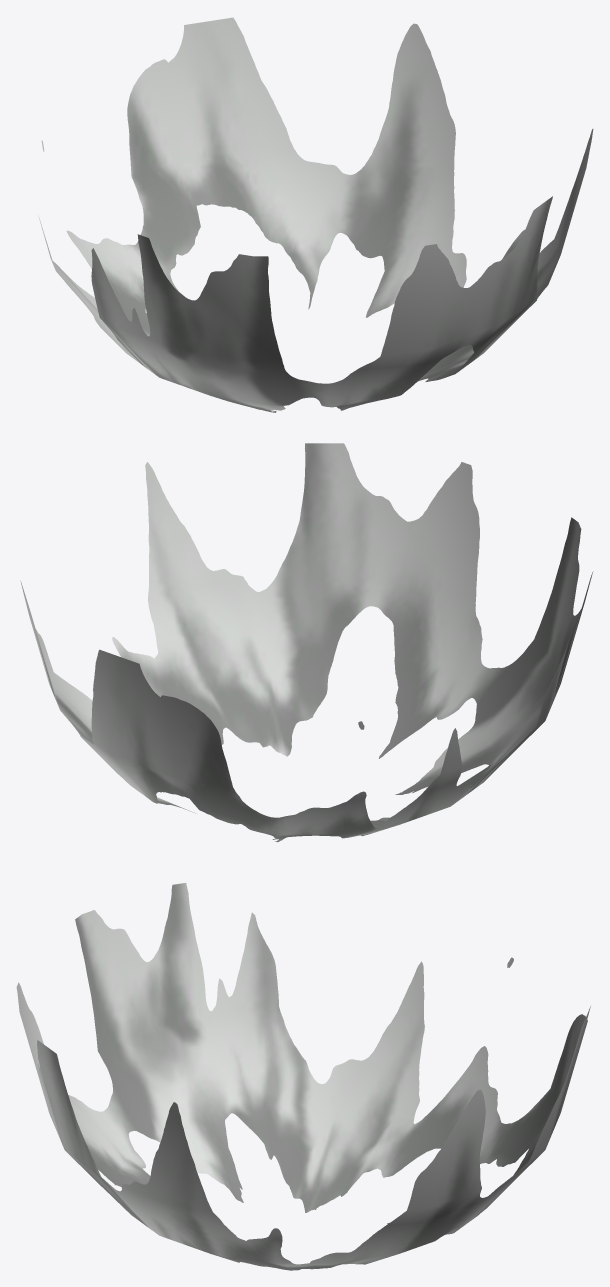
File: Sphere_half_005.FBX
The picture shows the model from 3 angles, top to bottom: view 1: azimuth 30°, elevation 25°; view 2: azimuth 150°, elevation 25°; view 3: azimuth 270°, elevation 25°; orthographic projection.
Visible parts, largest first — view 1: Sphere_half_005; view 2: Sphere_half_005; view 3: Sphere_half_005.
Part boxes in pixels (<box>): Sphere_half_005: <box>38,17,593,412</box>; Sphere_half_005: <box>20,443,593,842</box>; Sphere_half_005: <box>16,883,590,1270</box>.
Bounding box in the file's own units: 76.37 × 77.54 × 37.26.
Materials: 1 (1 with a texture image).
